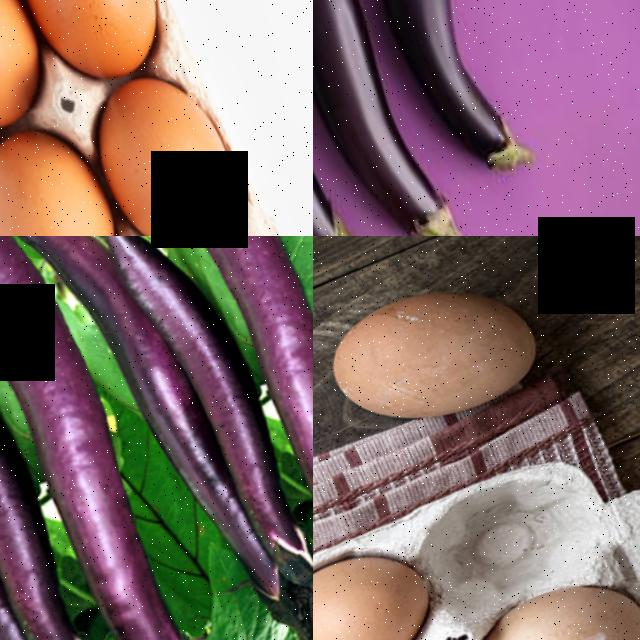egg_: (313, 245, 557, 455), (74, 54, 260, 236), (0, 0, 185, 101), (0, 109, 143, 236), (313, 527, 453, 640), (452, 556, 640, 640), (0, 0, 68, 155)
eggplant: (0, 236, 222, 640), (98, 236, 313, 630), (101, 236, 313, 561), (345, 0, 555, 199), (313, 0, 482, 236), (0, 275, 106, 640), (313, 0, 398, 236)
